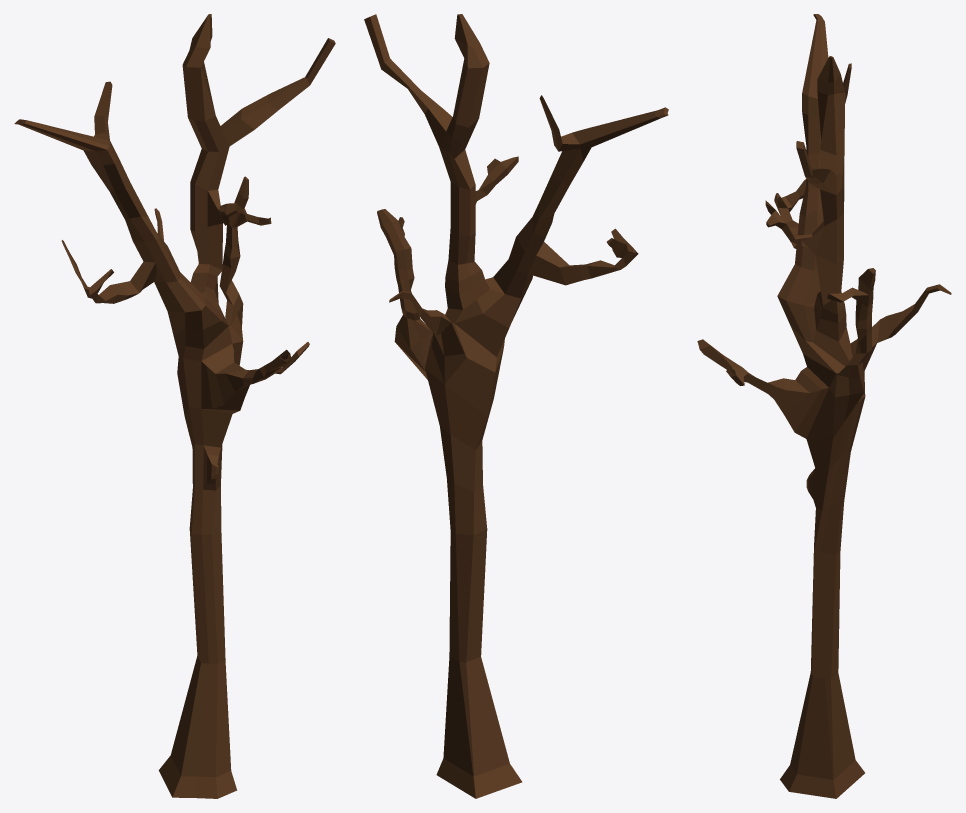
File: Dead Tree02.fbx
3 views of the same model, side by side, from view 1: azimuth 30°, elevation 25°; view 2: azimuth 150°, elevation 25°; view 3: azimuth 270°, elevation 25° (orthographic). The views are drawn at different scales.
Visible parts, largest first — view 1: Dead_Tree; view 2: Dead_Tree; view 3: Dead_Tree.
Part boxes in pixels (x1,y1,x2,y2): Dead_Tree: (14, 14, 335, 798); Dead_Tree: (364, 14, 668, 798); Dead_Tree: (697, 14, 951, 798).
Bounding box in the file's own units: 379 × 886 × 278.
